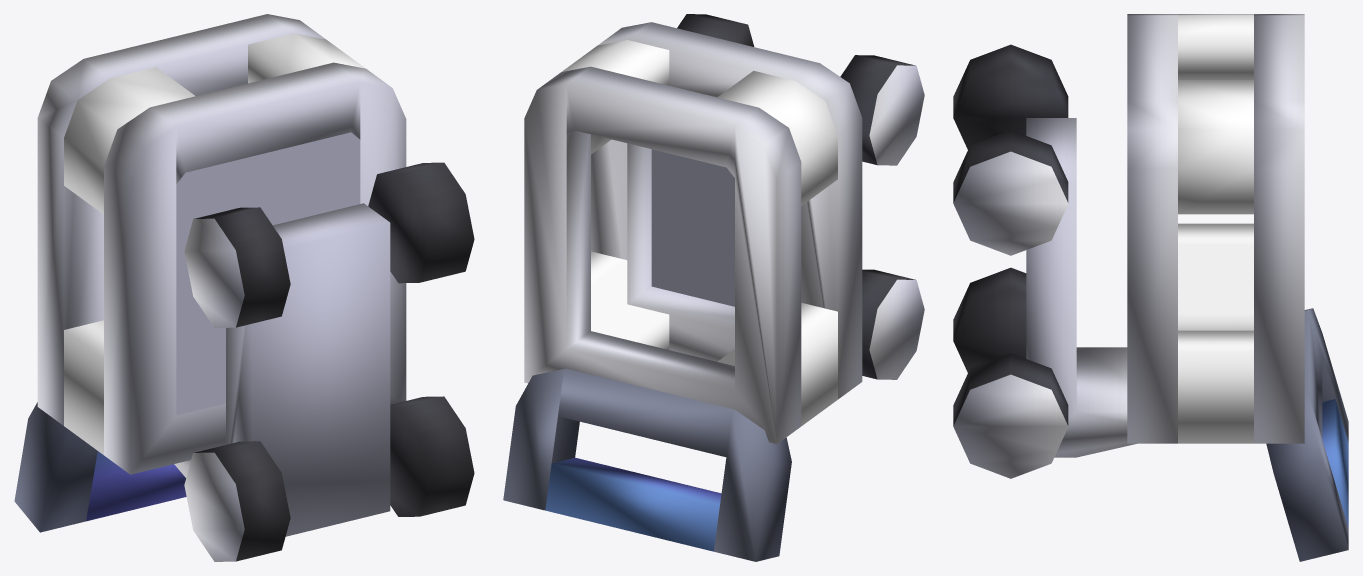
Rendered from shopping-cart.obj.
The picture shows the model from 3 angles, left to right: view 1: azimuth 30°, elevation 25°; view 2: azimuth 150°, elevation 25°; view 3: azimuth 270°, elevation 25°; orthographic projection. The views are drawn at different scales.
Parts seen in each view (by area): view 1: shopping-cart.002; view 2: shopping-cart.002; view 3: shopping-cart.002.
Boxes of the visible parts, x1,y1,x2,y2 form: shopping-cart.002: [14, 14, 474, 561]; shopping-cart.002: [503, 14, 924, 561]; shopping-cart.002: [953, 14, 1348, 561].
Size of the model in its own units: 0.3 by 0.4789 by 0.3906.
